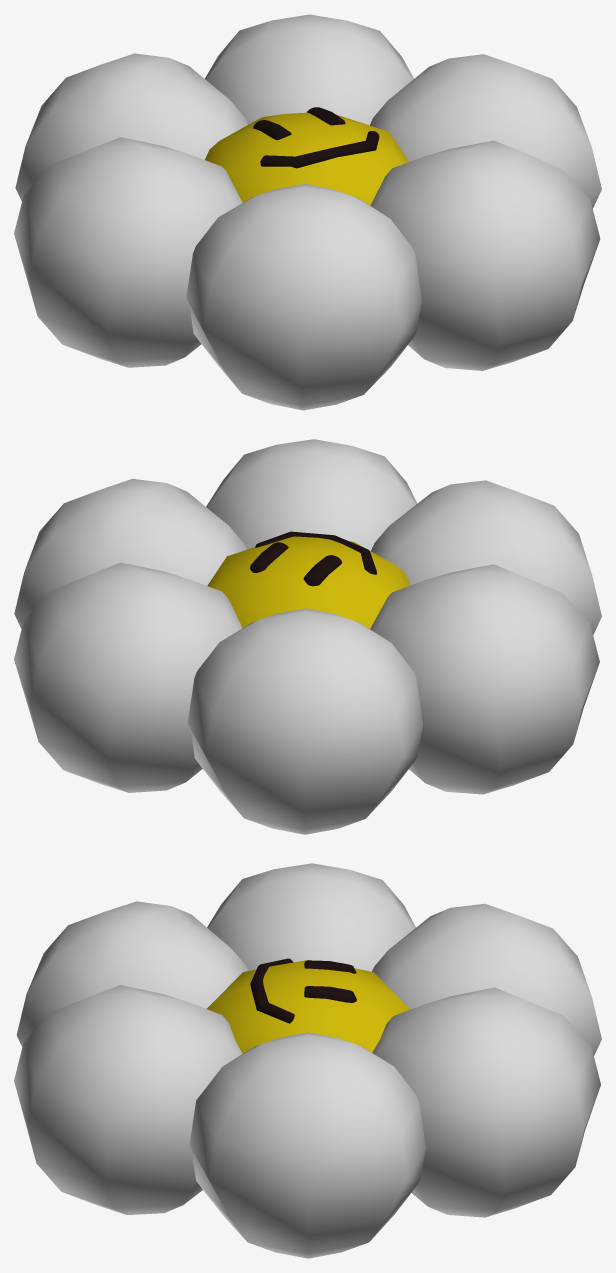
The model's file is object_marguerite.fbx.
3 views of the same model, one above another, from view 1: azimuth 30°, elevation 25°; view 2: azimuth 150°, elevation 25°; view 3: azimuth 270°, elevation 25° (orthographic).
Parts seen in each view (by area): view 1: Sphere.001, Sphere, Cylinder.002; view 2: Sphere.001, Sphere, Cylinder.002, Cylinder, Cylinder.001; view 3: Sphere.001, Sphere, Cylinder.002, Cylinder.001.
Part boxes in pixels (<box>): Sphere.001: <box>14,14,601,410</box>; Sphere: <box>205,112,408,205</box>; Cylinder.002: <box>260,131,379,168</box>; Sphere.001: <box>14,439,601,834</box>; Sphere: <box>207,536,410,628</box>; Cylinder.002: <box>255,531,376,574</box>; Cylinder: <box>303,555,342,586</box>; Cylinder.001: <box>250,542,288,572</box>; Sphere.001: <box>14,863,601,1258</box>; Sphere: <box>207,960,410,1053</box>; Cylinder.002: <box>250,958,294,1023</box>; Cylinder.001: <box>304,986,356,1002</box>.
Size of the model in its own units: 489 by 177 by 450.
